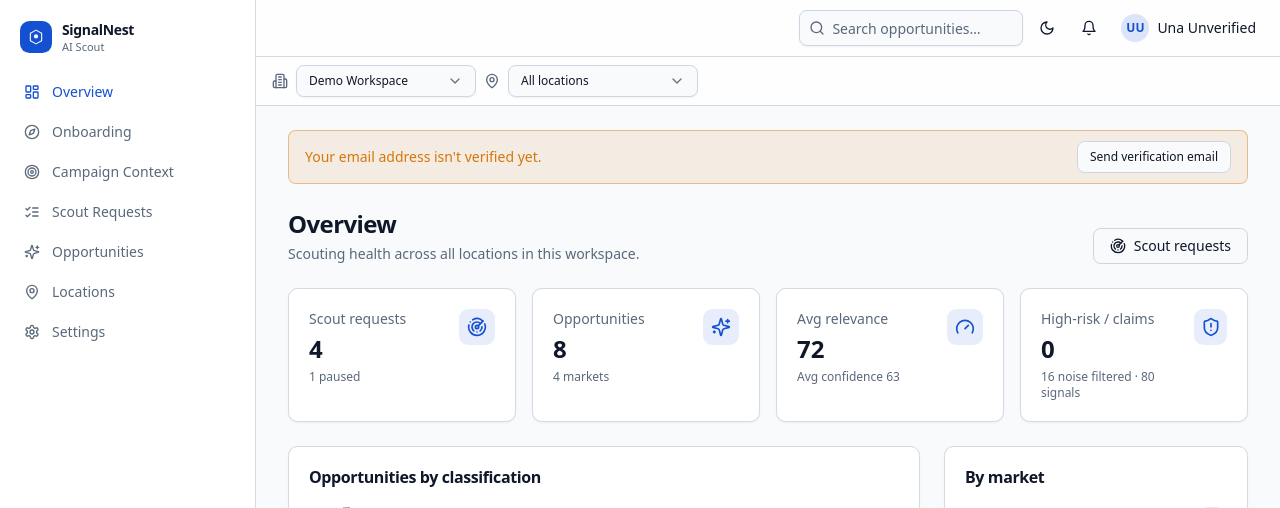
Test: the email-verification banner › never blocks the app: navigation works and the banner follows
This screenshot has width=1280, height=508.
Click the link "Settings" at (65, 331), box [24, 322, 105, 341]
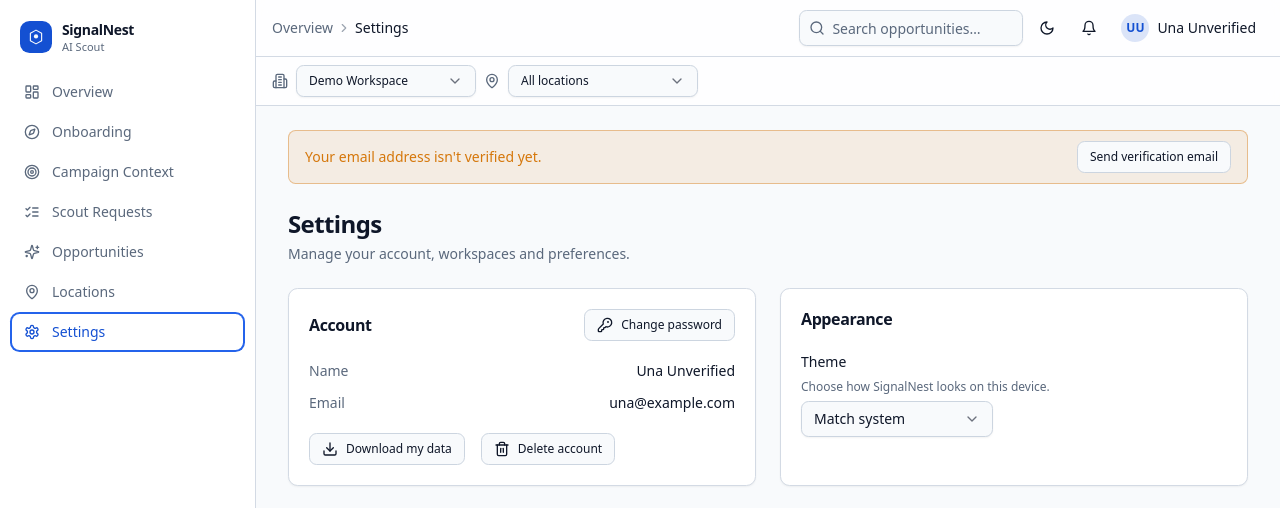
Expected: the text "Your email address isn't verified yet." is shown, [305, 147, 542, 166]
Expected: the heading "Settings" is shown, [288, 207, 382, 240]
